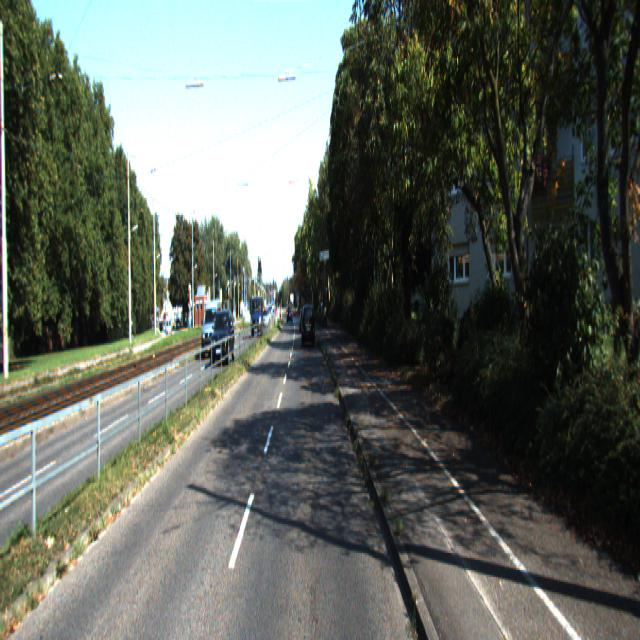Car: (211, 308, 236, 366), (201, 298, 224, 357), (302, 303, 316, 347), (250, 294, 264, 337)
